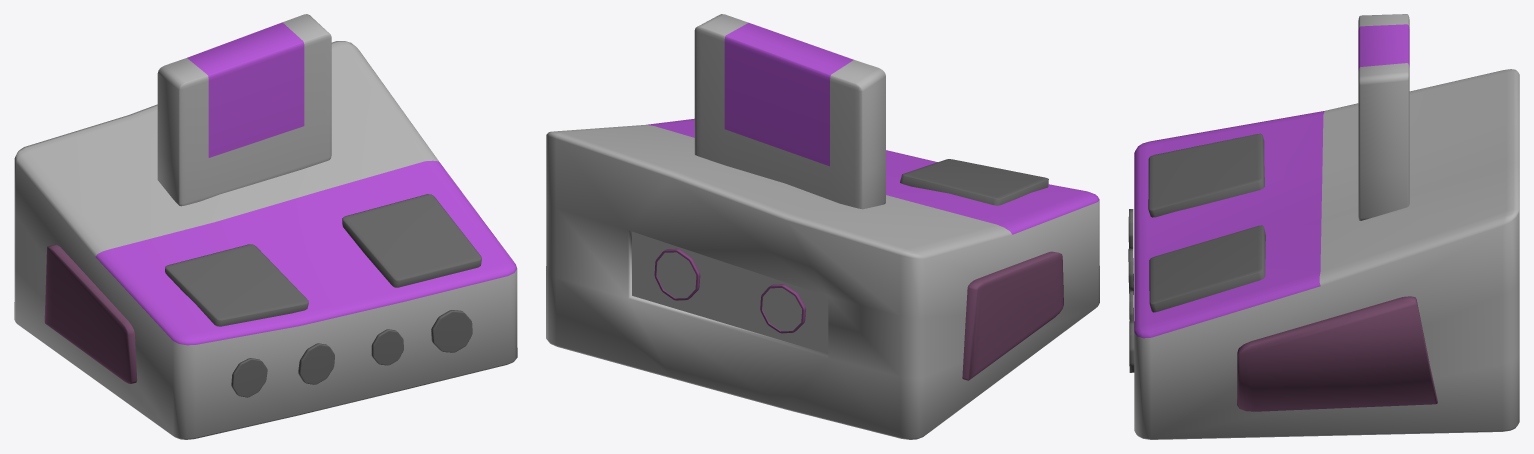
Rendered from Props_Console.fbx.
3 views of the same model, side by side, from view 1: azimuth 30°, elevation 25°; view 2: azimuth 150°, elevation 25°; view 3: azimuth 270°, elevation 25° (orthographic). The views are drawn at different scales.
Visible parts, largest first — view 1: Cube.003; view 2: Cube.003; view 3: Cube.003.
Boxes of the visible parts, x1,y1,x2,y2 form: Cube.003: (14, 14, 517, 439); Cube.003: (546, 14, 1099, 439); Cube.003: (1128, 14, 1519, 439).
Size of the model in its own units: 86.64 by 65.19 by 72.56.
